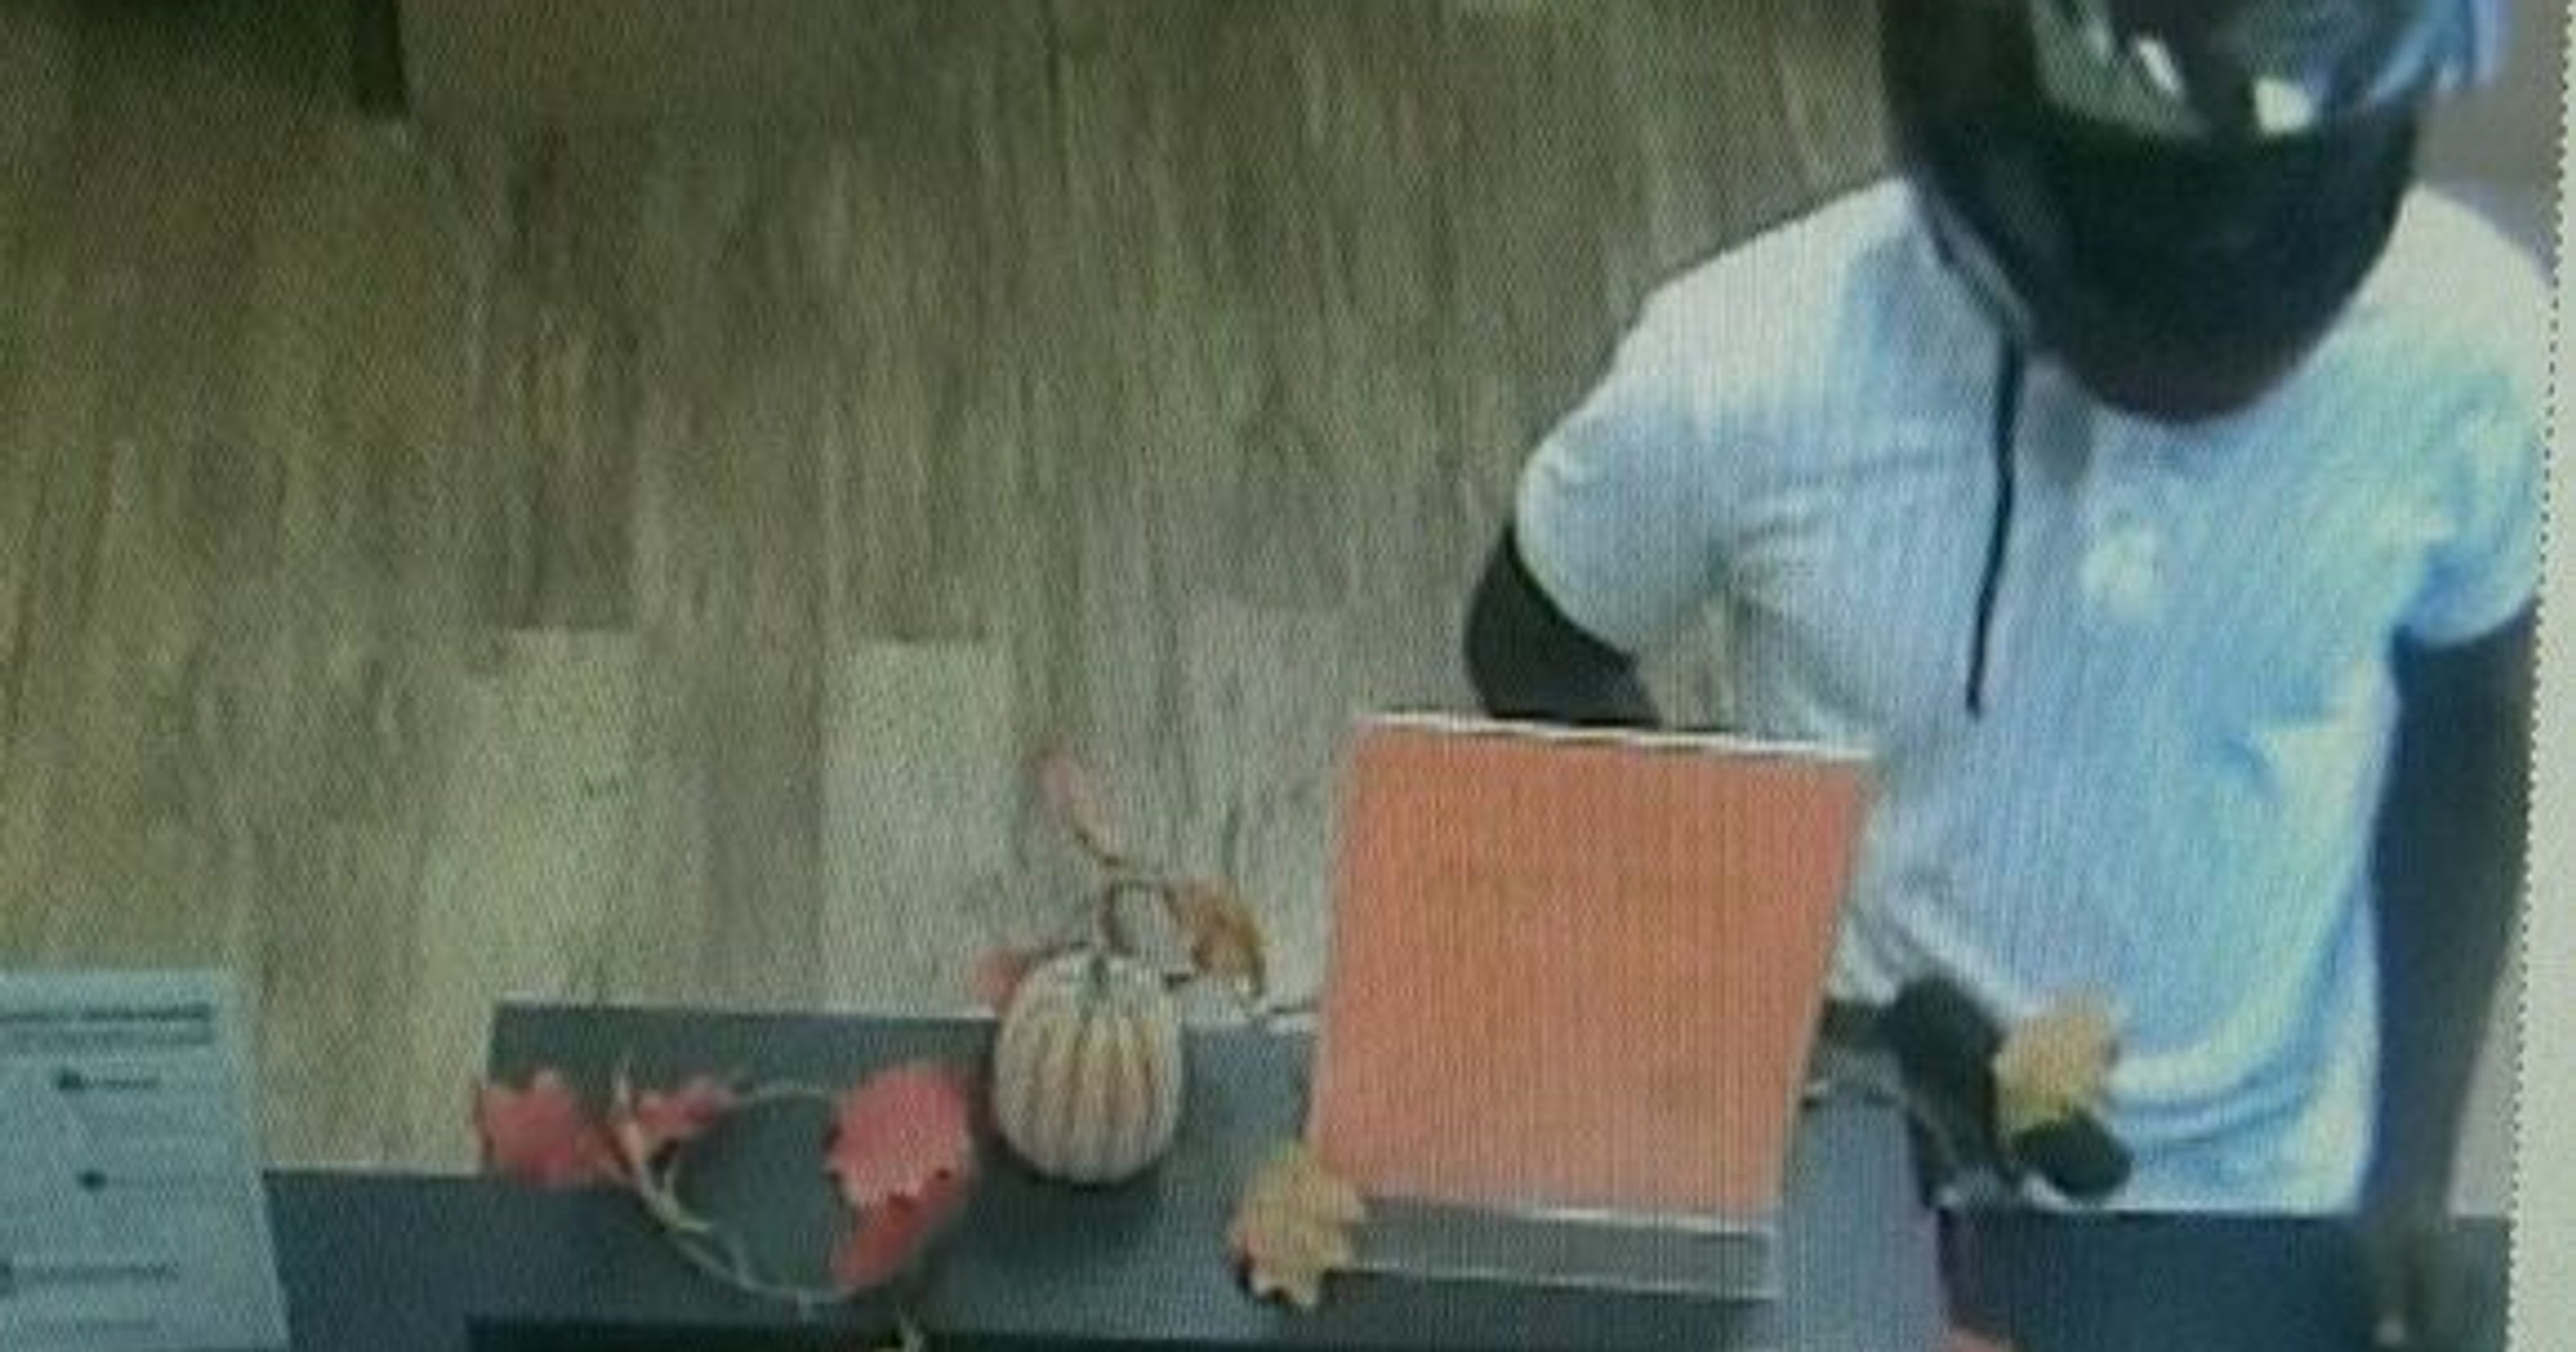helmet: (1851, 0, 2513, 439)
